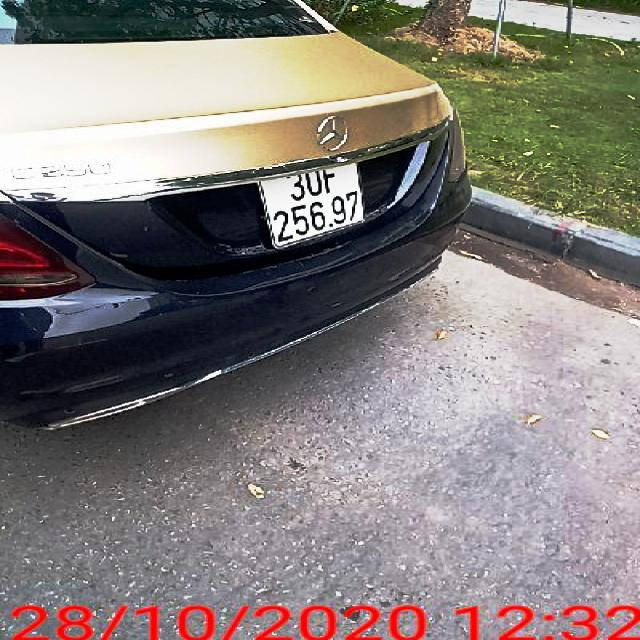license_plate: (258, 159, 370, 250)
